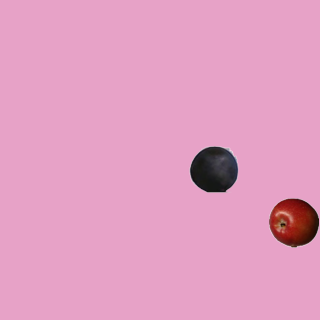Apple Braeburn: (268, 197, 318, 247)
Grape Blue: (188, 143, 238, 193)
